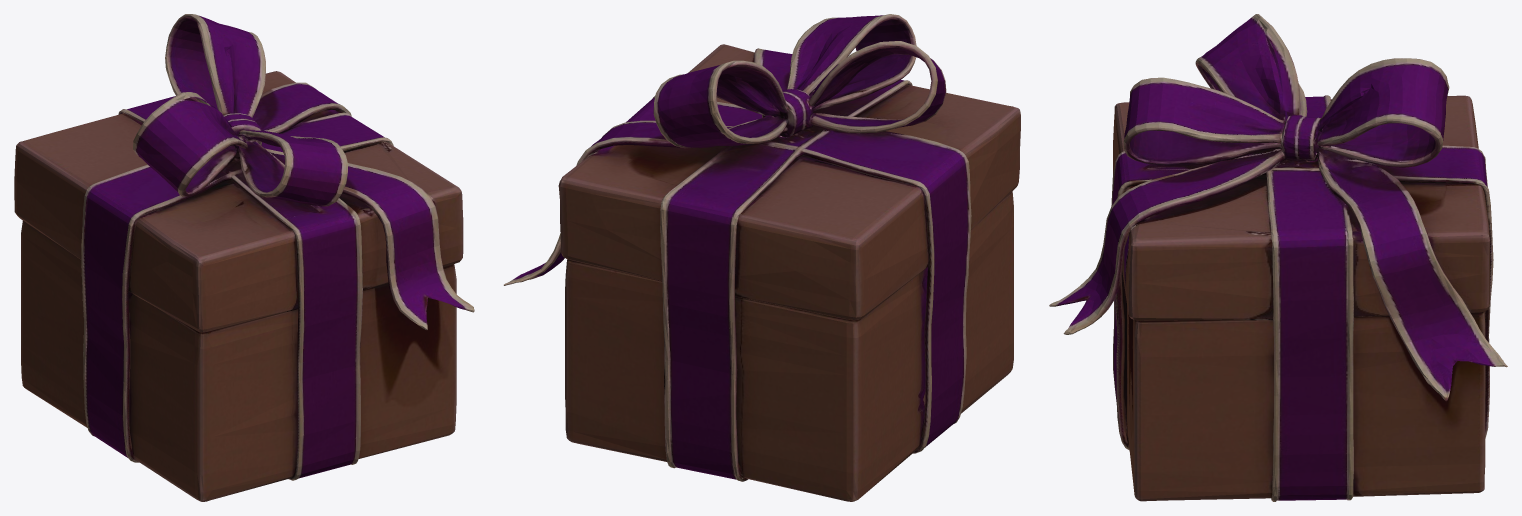
Rendered from modelo regalo.glb.
The picture shows the model from 3 angles, left to right: view 1: azimuth 30°, elevation 25°; view 2: azimuth 150°, elevation 25°; view 3: azimuth 270°, elevation 25°; orthographic projection. The views are drawn at different scales.
Visible parts, largest first — view 1: tripo_node_931c1dbd-9837-465f-8bc4-ac8925339bf3; view 2: tripo_node_931c1dbd-9837-465f-8bc4-ac8925339bf3; view 3: tripo_node_931c1dbd-9837-465f-8bc4-ac8925339bf3.
Boxes of the visible parts, x1,y1,x2,y2 form: tripo_node_931c1dbd-9837-465f-8bc4-ac8925339bf3: (14,14,474,501); tripo_node_931c1dbd-9837-465f-8bc4-ac8925339bf3: (503,14,1020,501); tripo_node_931c1dbd-9837-465f-8bc4-ac8925339bf3: (1049,14,1507,501).
Bounding box in the file's own units: 0.8963 × 0.9335 × 0.998.
Materials: 1 (1 with a texture image).
